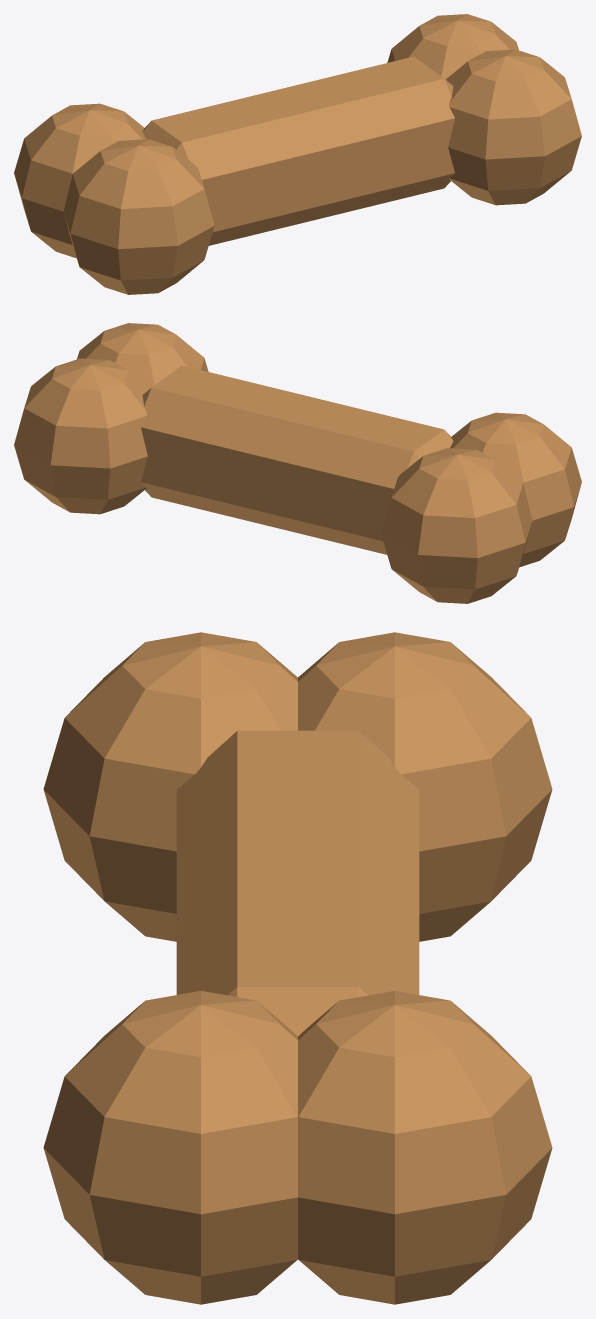
The model's file is dog_biscuit.glb.
3 renders of one model, top to bottom at view 1: azimuth 30°, elevation 25°; view 2: azimuth 150°, elevation 25°; view 3: azimuth 270°, elevation 25°, orthographic. The views are drawn at different scales.
Visible parts, largest first — view 1: dog_biscuit; view 2: dog_biscuit; view 3: dog_biscuit.
Part boxes in pixels (x1,y1,x2,y2): dog_biscuit: (14,14,581,294); dog_biscuit: (14,323,581,603); dog_biscuit: (43,632,552,1304).
Bounding box in the file's own units: 0.192 × 0.052 × 0.084.
